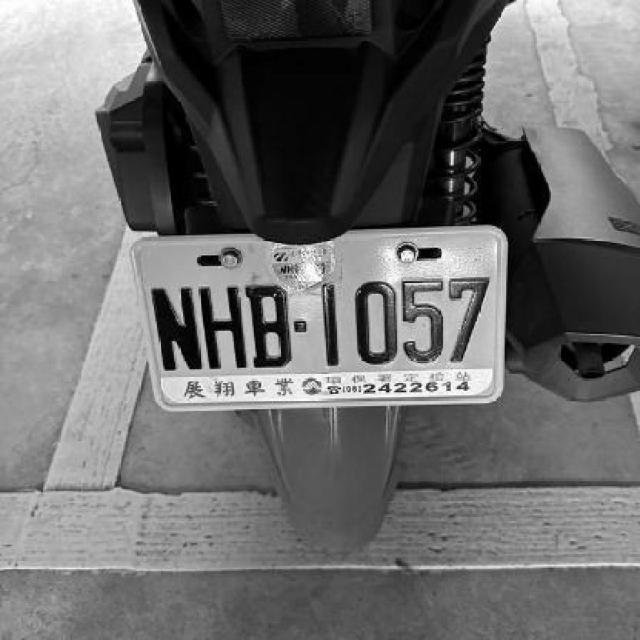-: (294, 318, 308, 334)
0: (352, 276, 397, 364)
1: (320, 283, 343, 368)
5: (397, 279, 446, 363)
7: (449, 274, 494, 361)
B: (240, 281, 293, 368)
H: (193, 278, 248, 373)
N: (147, 283, 203, 372)
